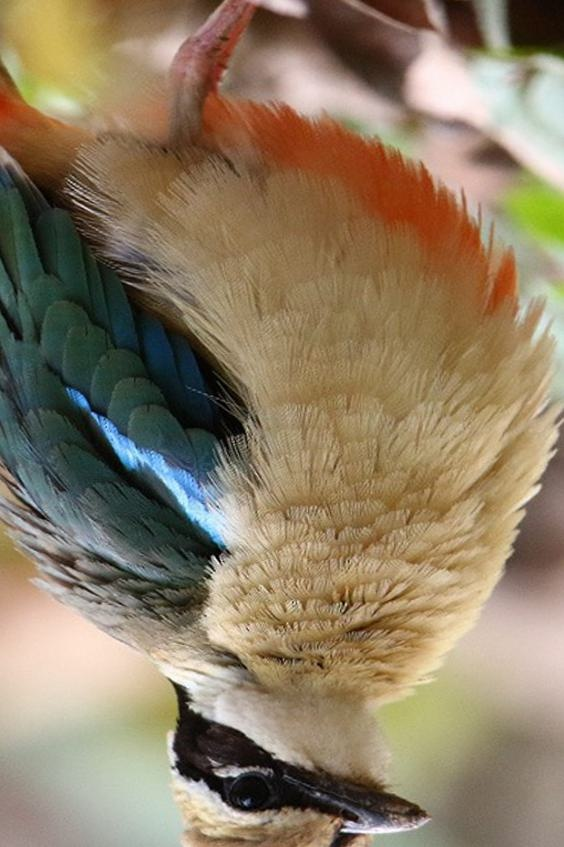pitta: (9, 86, 563, 847)
